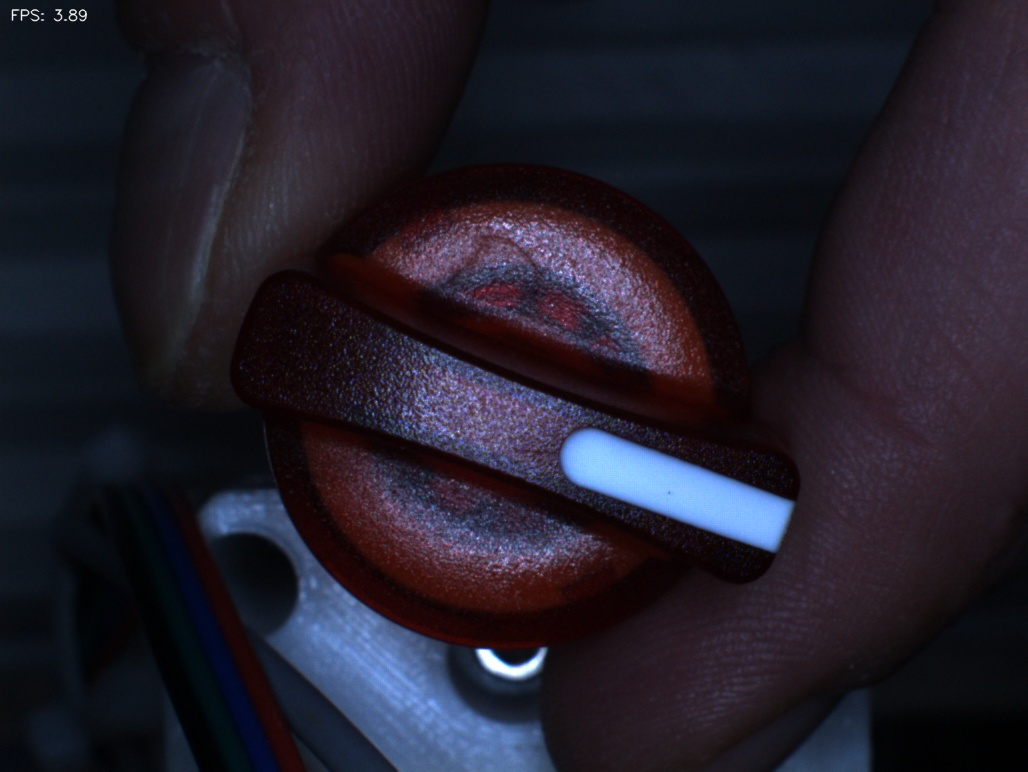PointNoir: (624, 463, 708, 527)
